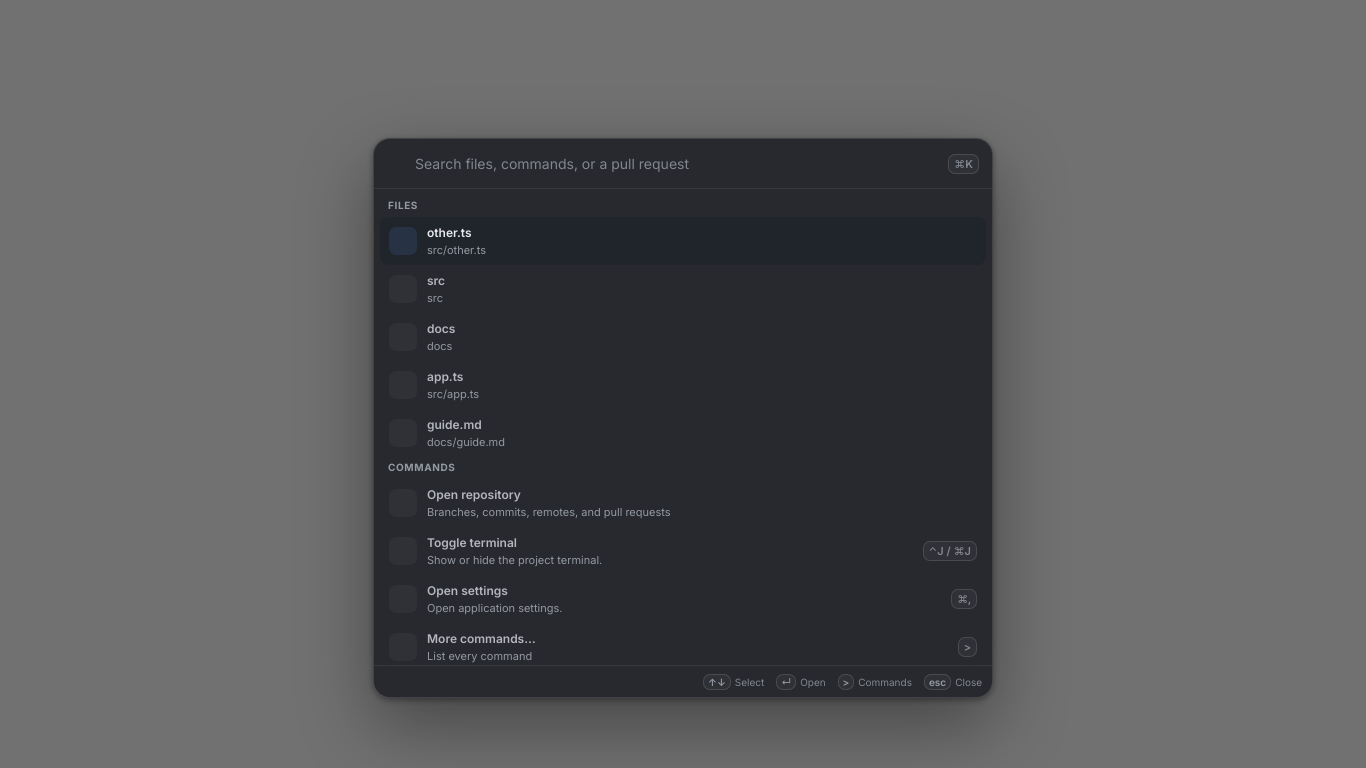
Test: CommandPalette › selecting a folder narrows the query instead of opening a file
Type "docs" into the field with placeholder "Search files, commands, or a pull request".
click(676, 164); type("docs")  # box [413, 154, 938, 173]
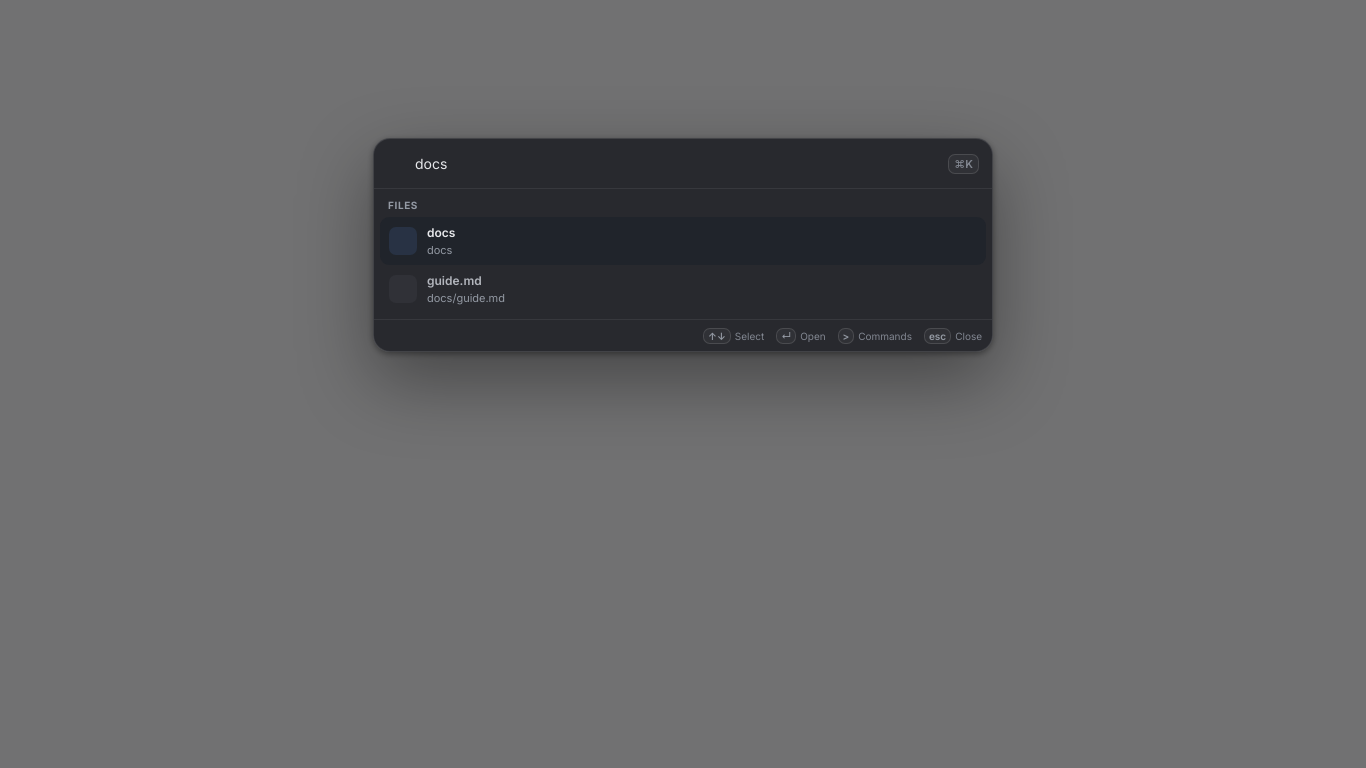
Click the button "docs docs".
click(403, 241)  # box [380, 217, 986, 265]
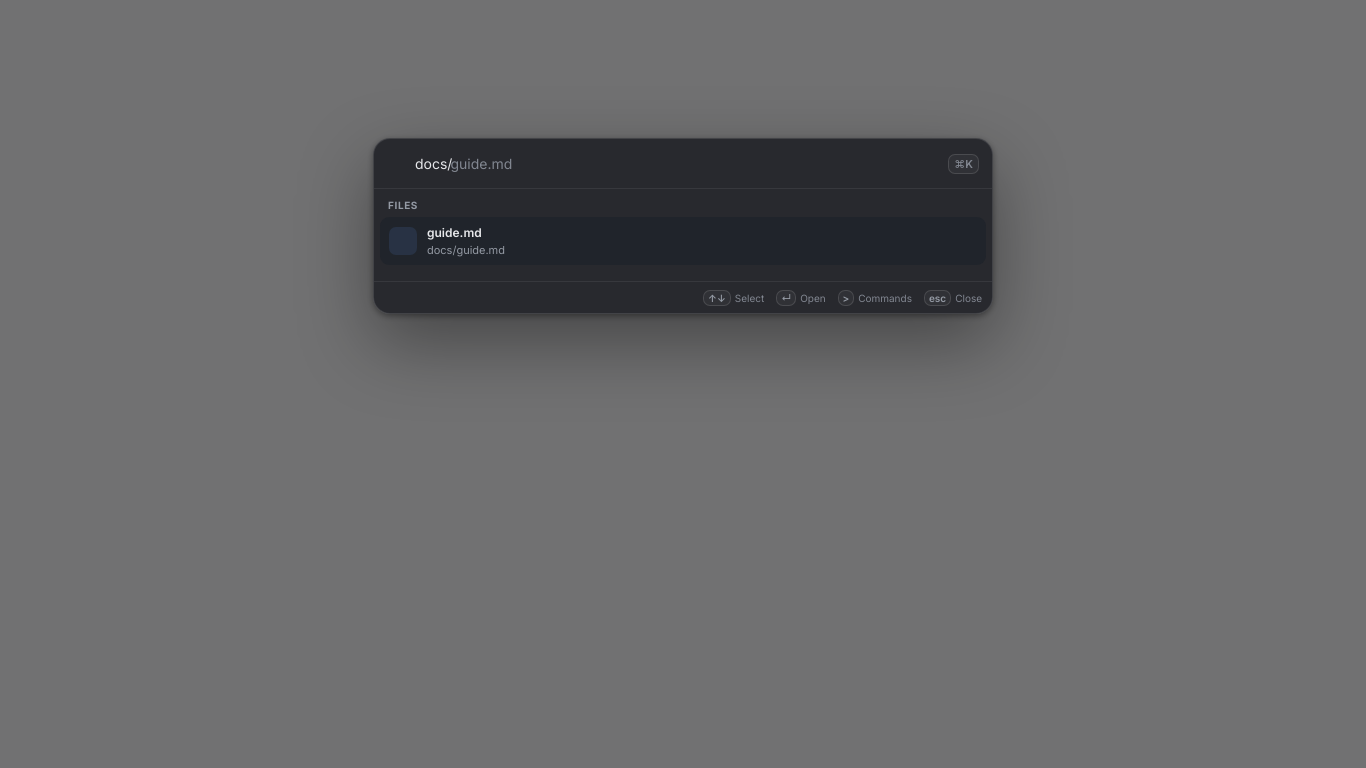
Result: the field with placeholder "Search files, commands, or a pull request" holds "docs/" at [413, 154, 938, 173]
